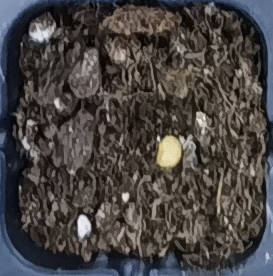pepper seed: (64, 50, 246, 218)
